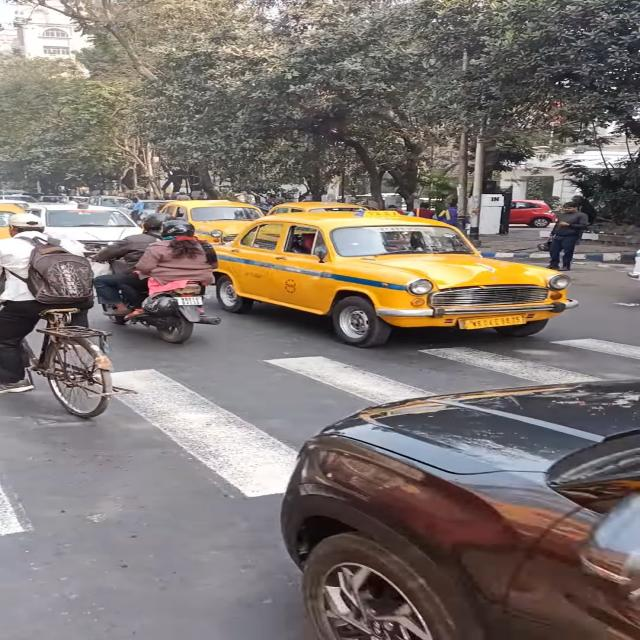Taxi: (217, 202, 601, 346)
